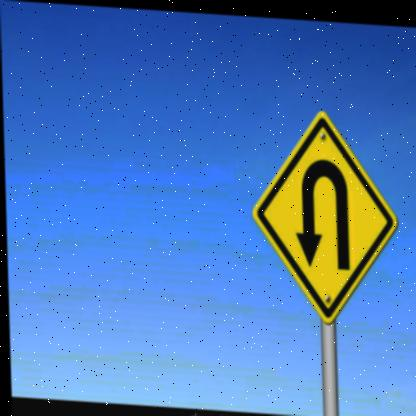U-turn: (248, 99, 402, 321)
